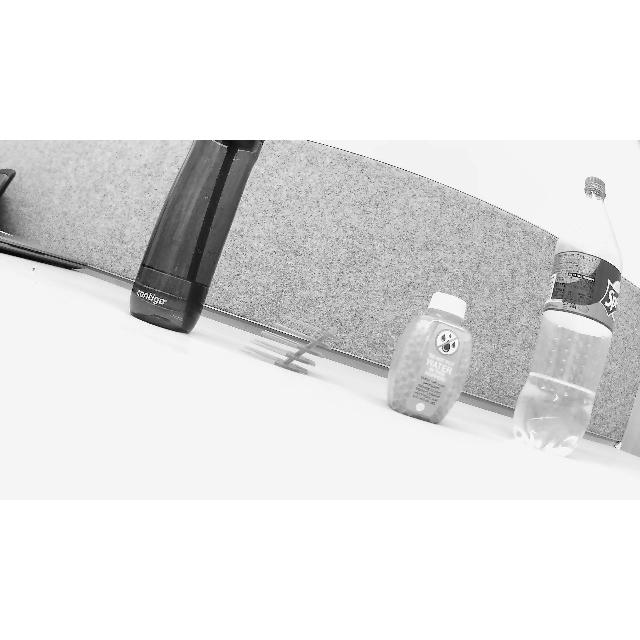targets: (512, 168, 622, 448), (128, 140, 272, 332), (386, 291, 476, 423), (240, 316, 342, 368)
